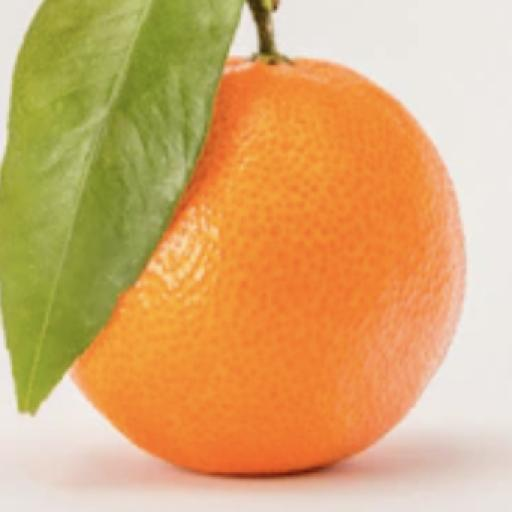orange: (74, 60, 464, 473)
